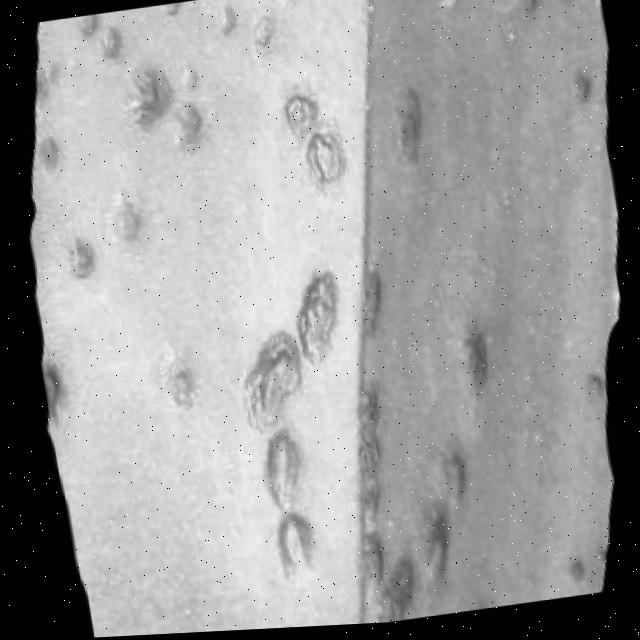mite: (2, 0, 426, 610), (71, 0, 354, 219), (278, 86, 352, 192), (51, 222, 106, 289), (300, 128, 347, 188), (279, 91, 322, 138), (59, 232, 98, 280), (30, 131, 64, 172), (483, 0, 539, 20), (76, 14, 103, 39), (161, 3, 187, 19)
spots: (2, 0, 640, 639)
